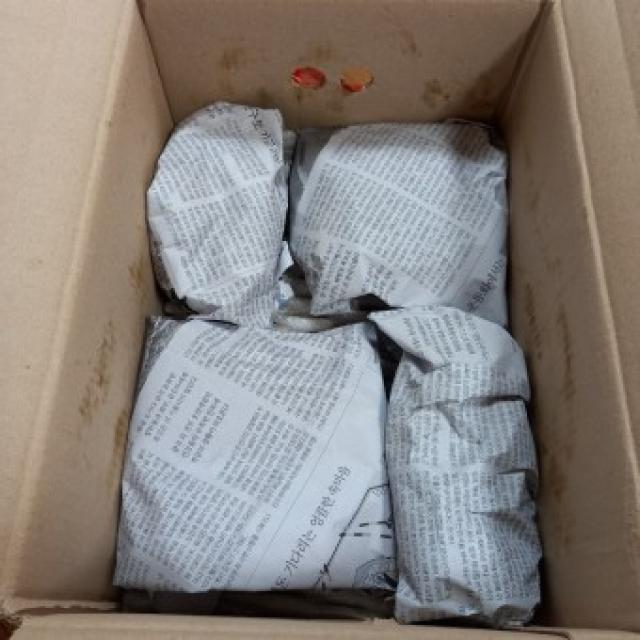Newspaper: (138, 322, 403, 587), (320, 130, 506, 316), (166, 112, 292, 318)
